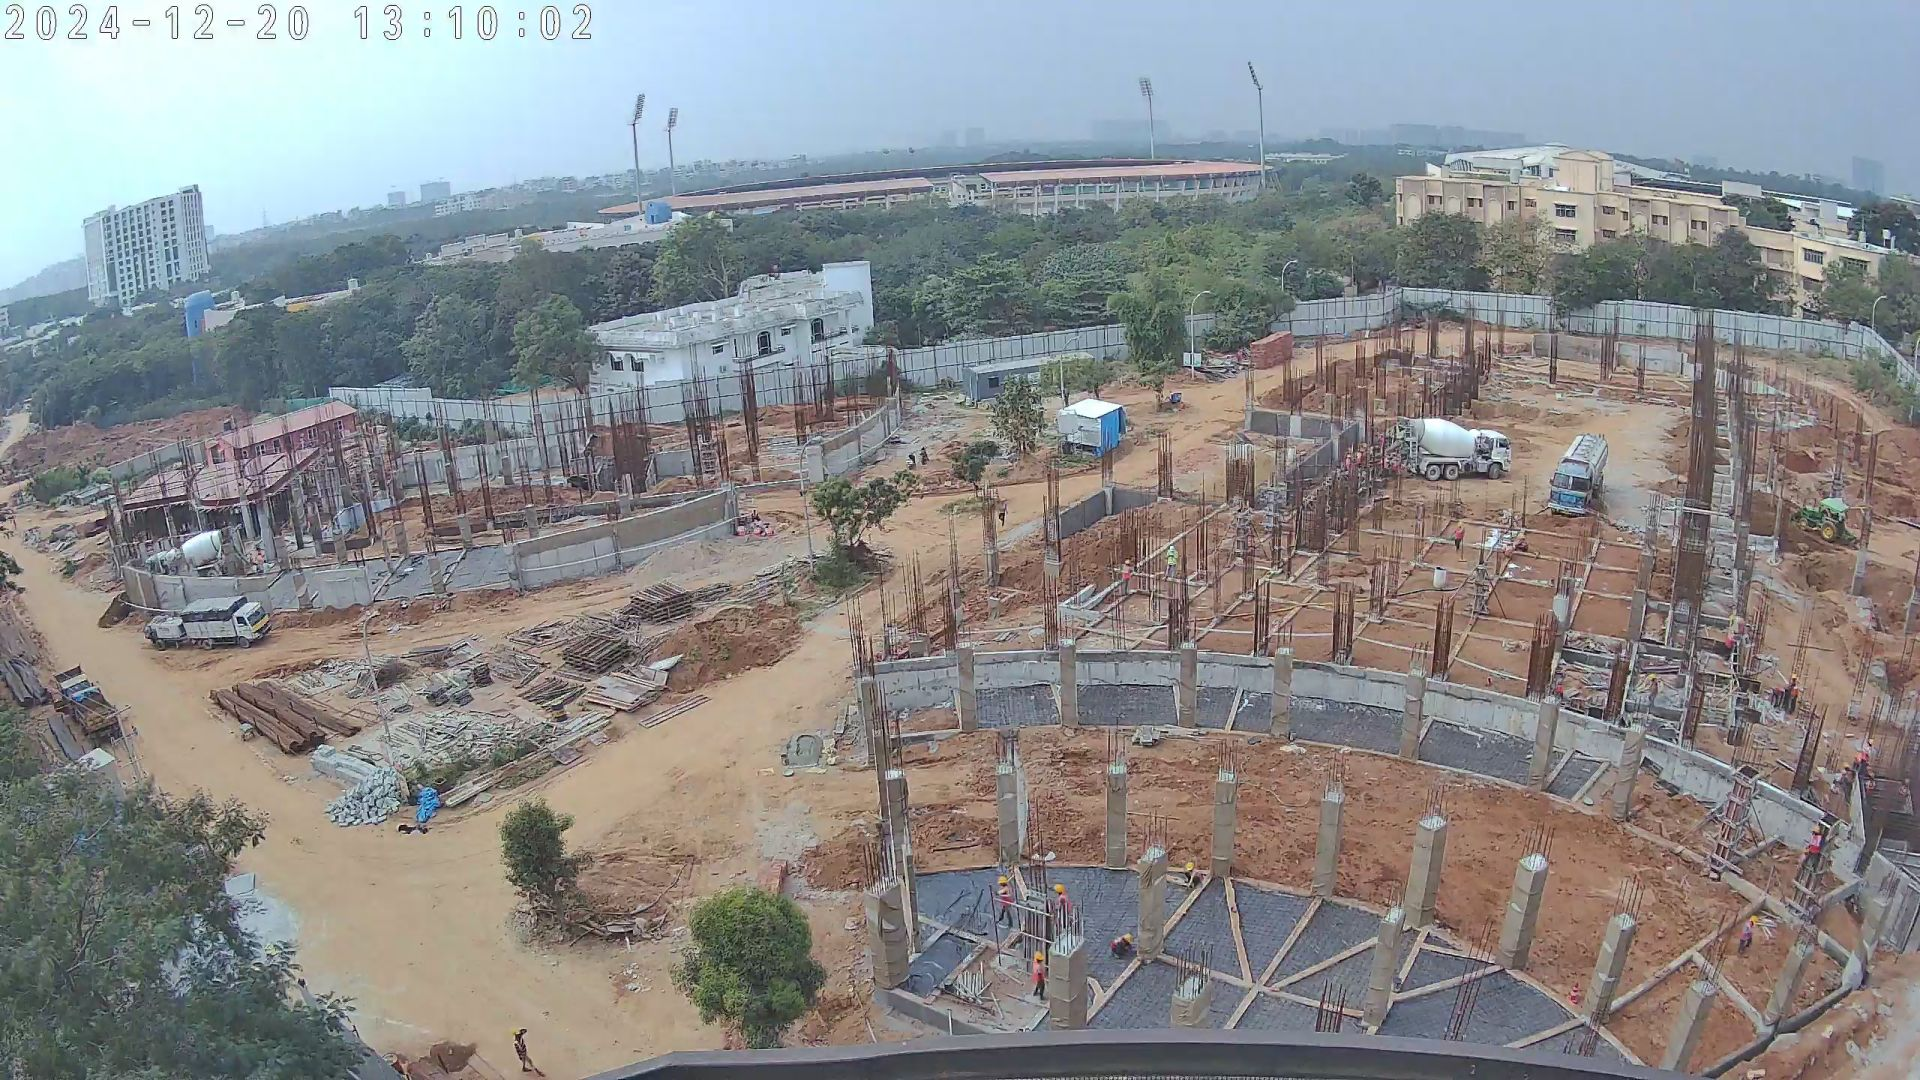bike: (901, 451, 918, 470), (917, 444, 931, 466)
bulldozer: (1791, 496, 1854, 541)
truck: (1399, 411, 1511, 484), (141, 594, 274, 650), (1550, 431, 1610, 523), (54, 674, 120, 747), (140, 530, 234, 580)
worker: (990, 876, 1020, 924), (509, 1026, 533, 1080), (1023, 953, 1046, 1000), (1049, 884, 1075, 923), (1159, 543, 1184, 583), (1805, 823, 1826, 868), (1113, 558, 1137, 597), (1450, 516, 1470, 557), (1740, 912, 1758, 957), (1838, 762, 1854, 802), (1724, 631, 1739, 673), (1110, 932, 1134, 958), (1183, 860, 1204, 889), (1644, 670, 1660, 708), (1764, 683, 1785, 709), (997, 495, 1011, 529), (1862, 737, 1874, 774), (253, 550, 268, 578), (1518, 532, 1533, 556), (1501, 539, 1516, 561), (1792, 681, 1800, 712), (1554, 680, 1565, 700)
